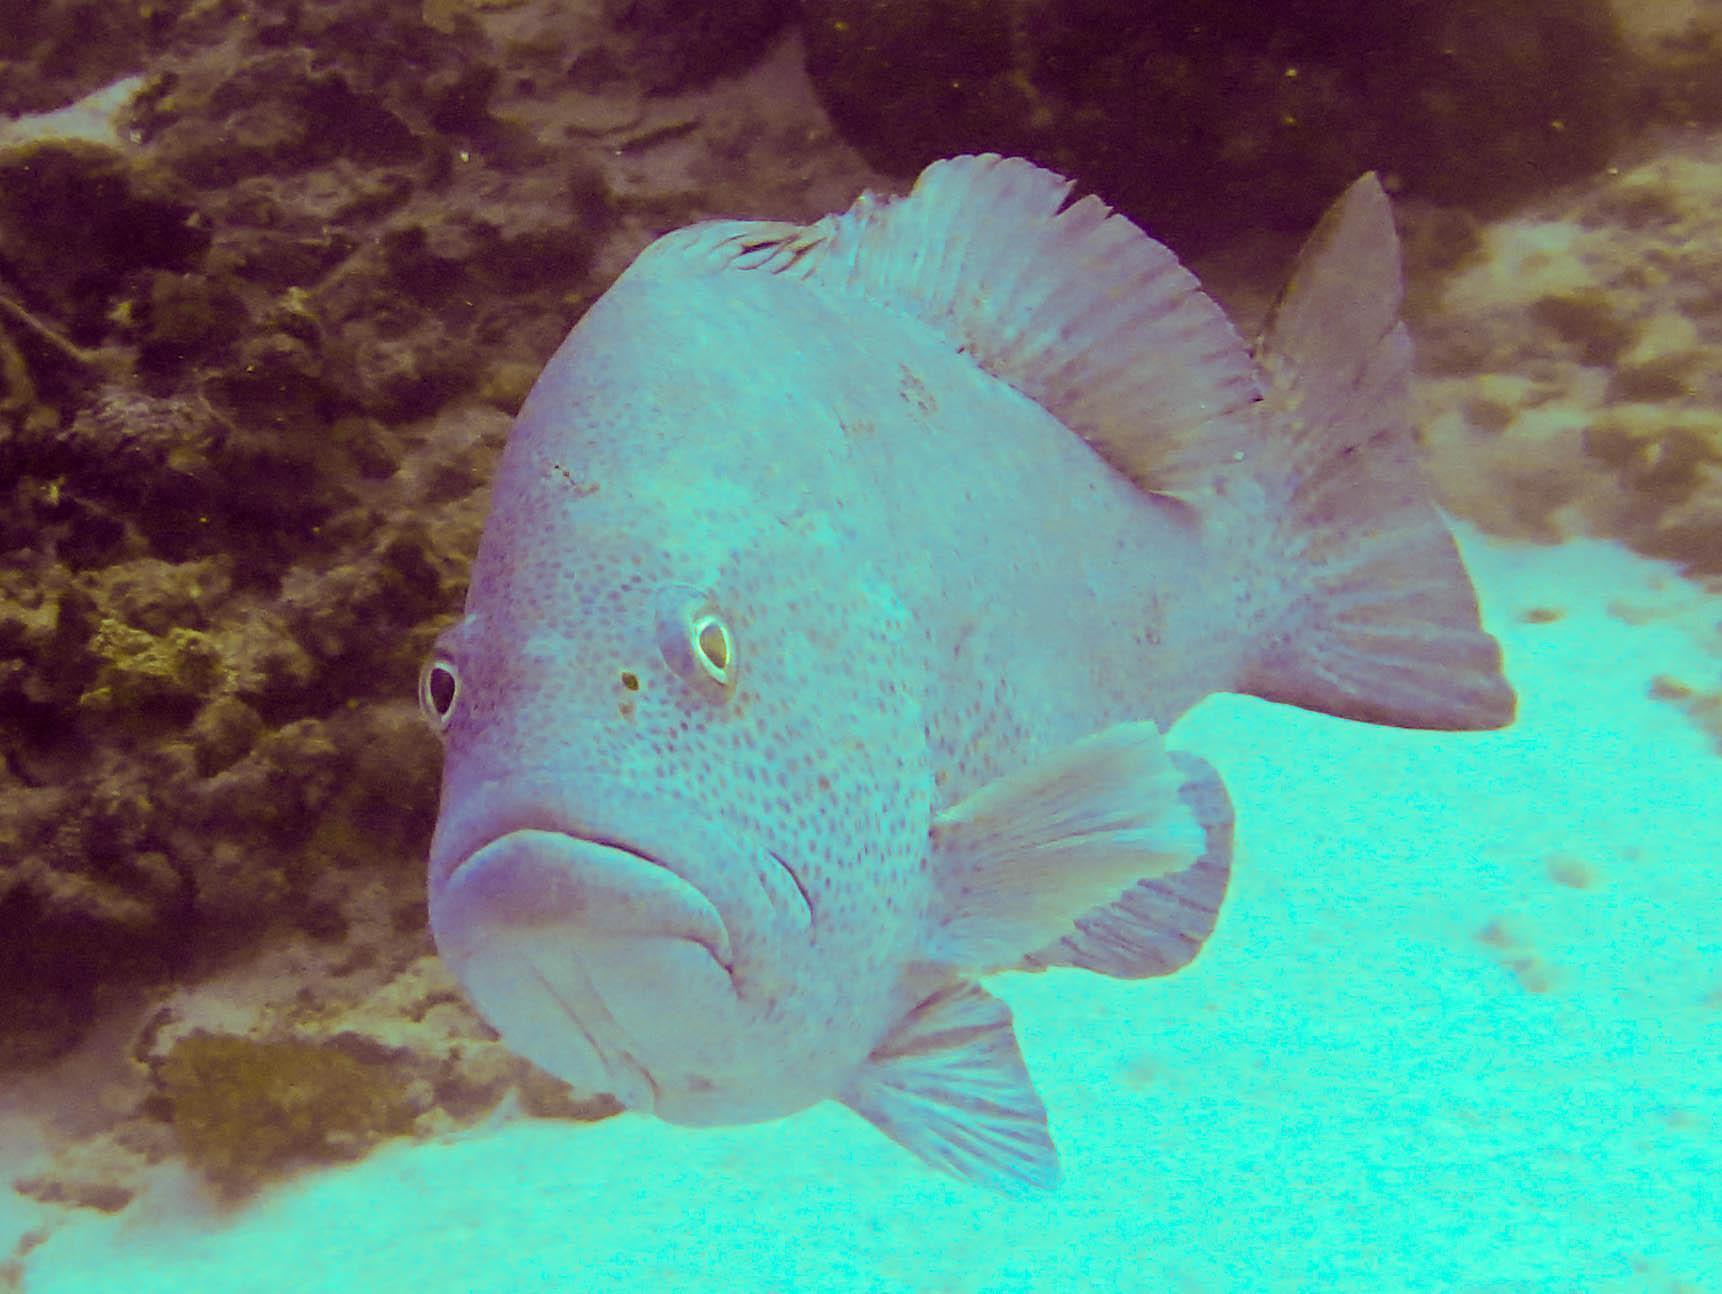Fish: (262, 67, 1577, 1238)
